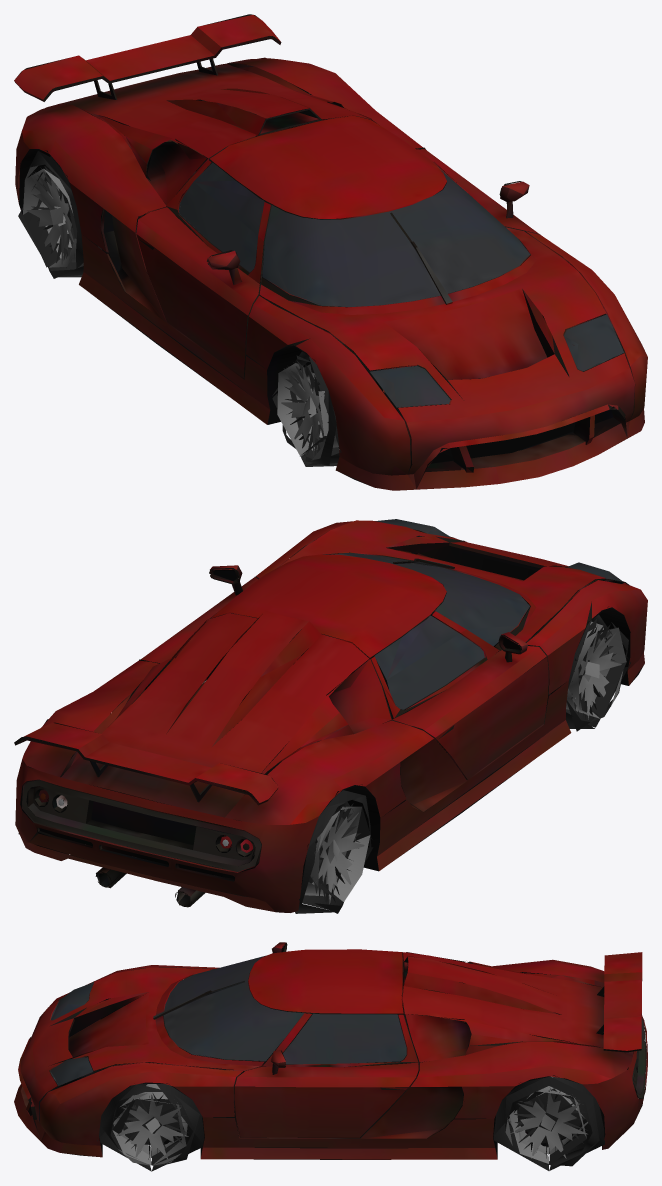
The model's file is pack-sport-L2.glb.
3 views of the same model, one above another, from view 1: azimuth 30°, elevation 25°; view 2: azimuth 150°, elevation 25°; view 3: azimuth 270°, elevation 25° (orthographic). The views are drawn at different scales.
Visible parts, largest first — view 1: body, wheel-back-left, wheel-front-left.1, wheel-back-left.1, wheel-front-left; view 2: body, wheel-back-left.1, wheel-back-left, wheel-front-left.1, wheel-front-left; view 3: body, wheel-back-right, wheel-front-right, wheel-front-right.1, wheel-back-right.1.
Boxes of the visible parts, bbox=[...] form: body: bbox=[14, 14, 647, 490]; wheel-back-left: bbox=[18, 151, 101, 278]; wheel-front-left.1: bbox=[277, 363, 338, 460]; wheel-back-left.1: bbox=[23, 165, 76, 267]; wheel-front-left: bbox=[272, 341, 359, 466]; body: bbox=[14, 519, 647, 912]; wheel-back-left.1: bbox=[304, 806, 370, 903]; wheel-back-left: bbox=[295, 790, 373, 913]; wheel-front-left.1: bbox=[566, 621, 626, 719]; wheel-front-left: bbox=[528, 605, 630, 731]; body: bbox=[14, 942, 647, 1159]; wheel-back-right: bbox=[493, 1076, 604, 1170]; wheel-front-right: bbox=[97, 1083, 204, 1171]; wheel-front-right.1: bbox=[112, 1084, 188, 1165]; wheel-back-right.1: bbox=[505, 1076, 587, 1163].
Bounding box in the file's own units: 1.76 × 1.1 × 3.91.
Materials: 3 (1 with a texture image).
